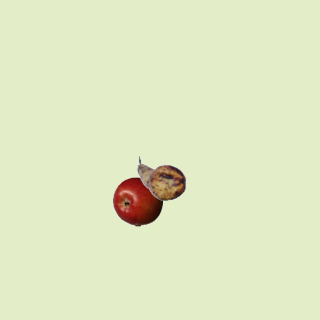Apple Braeburn: (112, 176, 162, 226)
Pear Abate: (136, 153, 186, 203)
